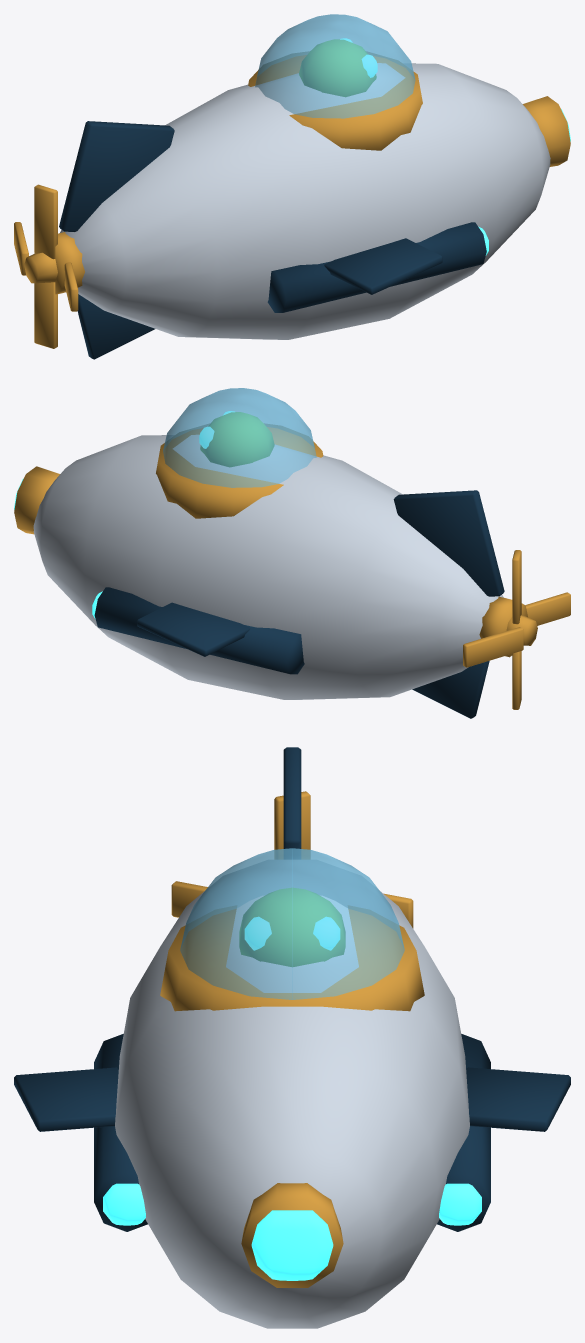
3 views of the same model, one above another, from view 1: azimuth 30°, elevation 25°; view 2: azimuth 150°, elevation 25°; view 3: azimuth 270°, elevation 25° (orthographic). The views are drawn at different scales.
Parts seen in each view (by area): view 1: hull, dome, propeller, pilot; view 2: hull, dome, propeller, pilot; view 3: hull, dome, pilot, propeller.
Boxes of the visible parts, box(x1,y1,x2,y2) form: hull: box(34, 52, 570, 359); dome: box(255, 14, 415, 118); propeller: box(14, 184, 78, 348); pilot: box(299, 38, 377, 96); hull: box(14, 424, 527, 718); dome: box(163, 388, 316, 487); propeller: box(463, 550, 570, 709); pilot: box(199, 411, 274, 467); hull: box(14, 747, 570, 1328); dome: box(180, 848, 404, 999); pilot: box(239, 888, 345, 966); propeller: box(171, 791, 413, 928).
Size of the model in its own units: 1.8 by 0.9536 by 1.14.
